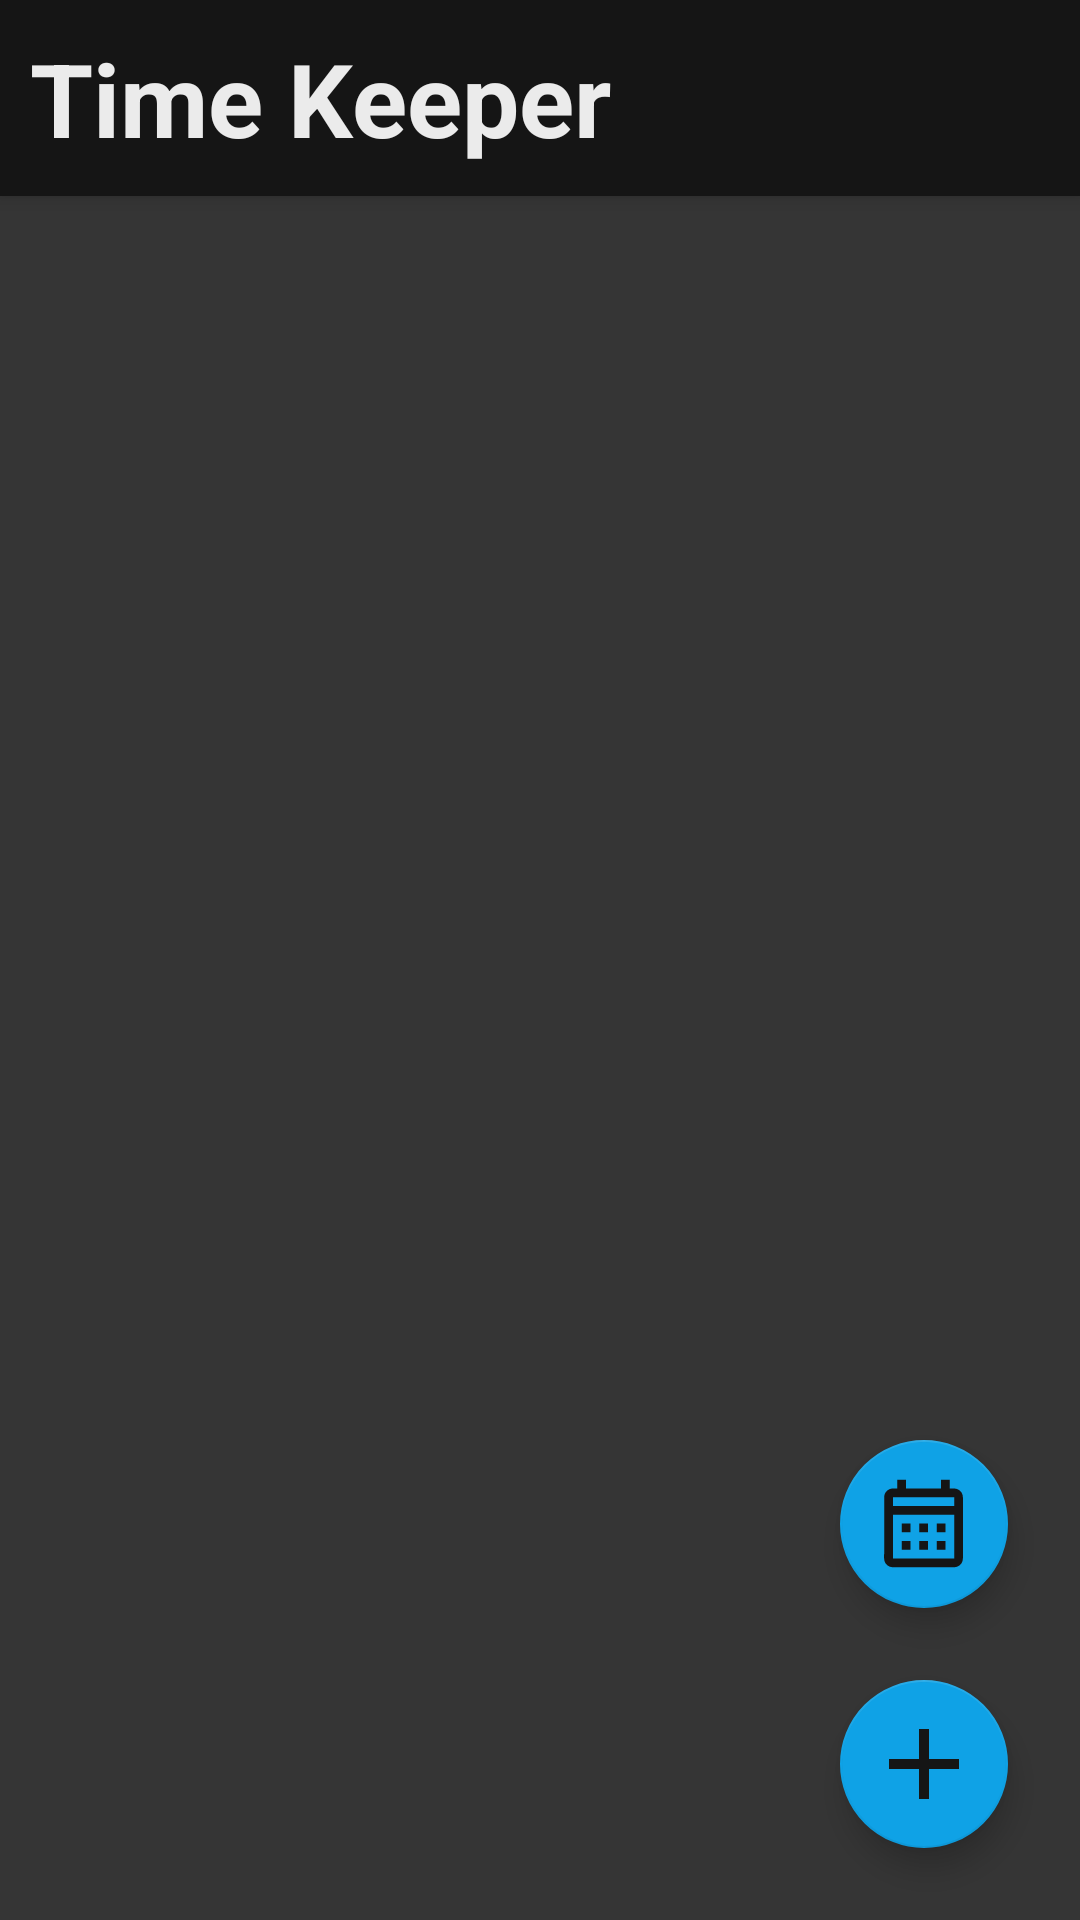

Icon click points for this 1080 x 1920 phone screenshot, format (x,y):
Add Reminder / Event: (924,1764)
Go to calendar: (924,1524)
